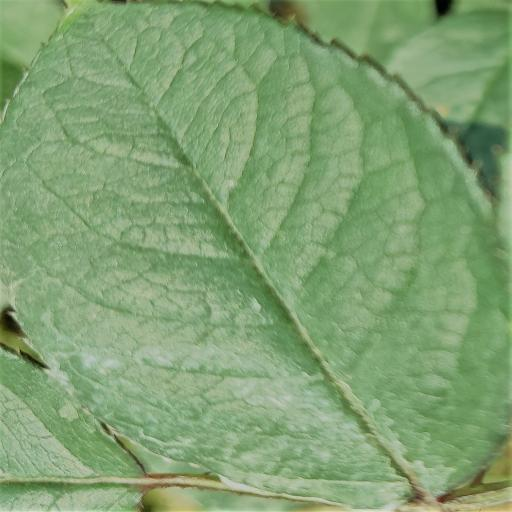healthy_leaf: (0, 0, 509, 512)
